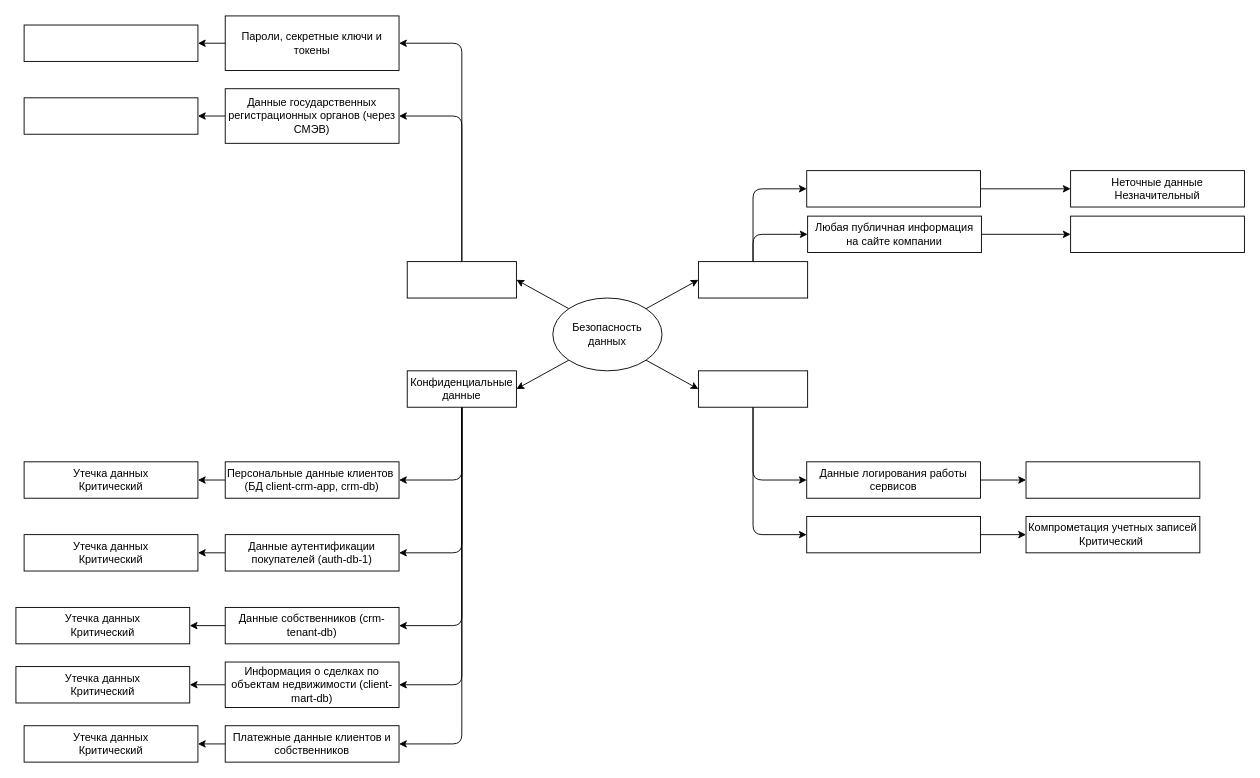
Image size: 1260x778. Some labels were removed from this diagram. The centre of each missing label's shape, as x and y in pixels:
"DDos-атака Незначительный" goes at pixel 1157 234.
"Внутренние данные" goes at pixel 753 388.
"Каталог объектов недвижимости" goes at pixel 893 188.
"Публичные данные" goes at pixel 753 279.
"Секретные данные" goes at pixel 461 279.
"Утечка авторизационных данных Критический" goes at pixel 110 42.
"Утечка государственных данных Критический" goes at pixel 110 115.
"Утечка данных Значительный" goes at pixel 1112 479.
"Учетные данные работников" goes at pixel 893 534.
